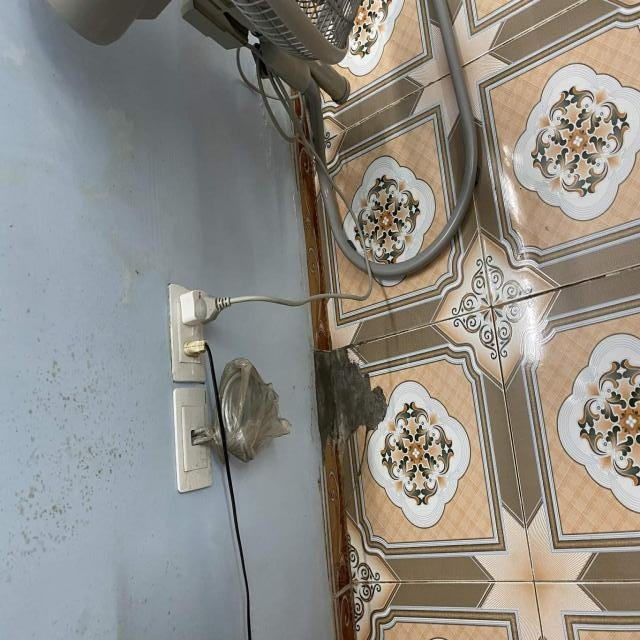outlet: (172, 387, 213, 494), (168, 283, 207, 383)
